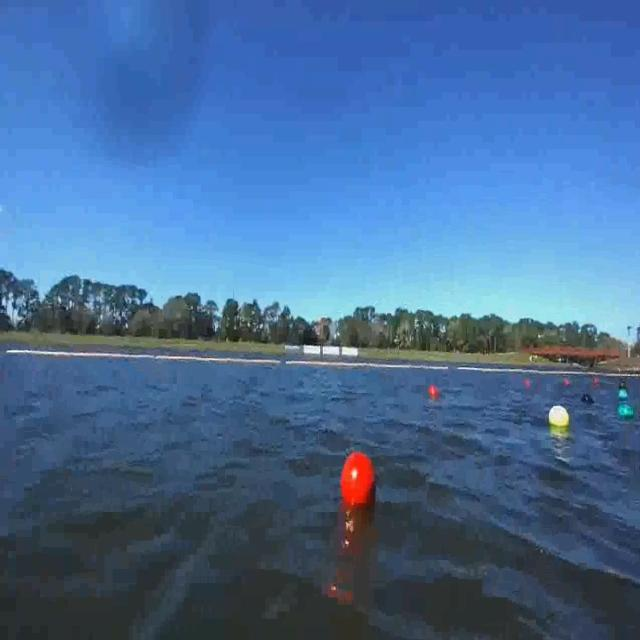black-buoy: (584, 393, 596, 404)
green-buoy: (619, 407, 634, 421), (619, 389, 629, 400)
red-buoy: (340, 449, 378, 514), (428, 385, 438, 399), (524, 379, 530, 387)
yellow-buoy: (550, 406, 571, 428)
